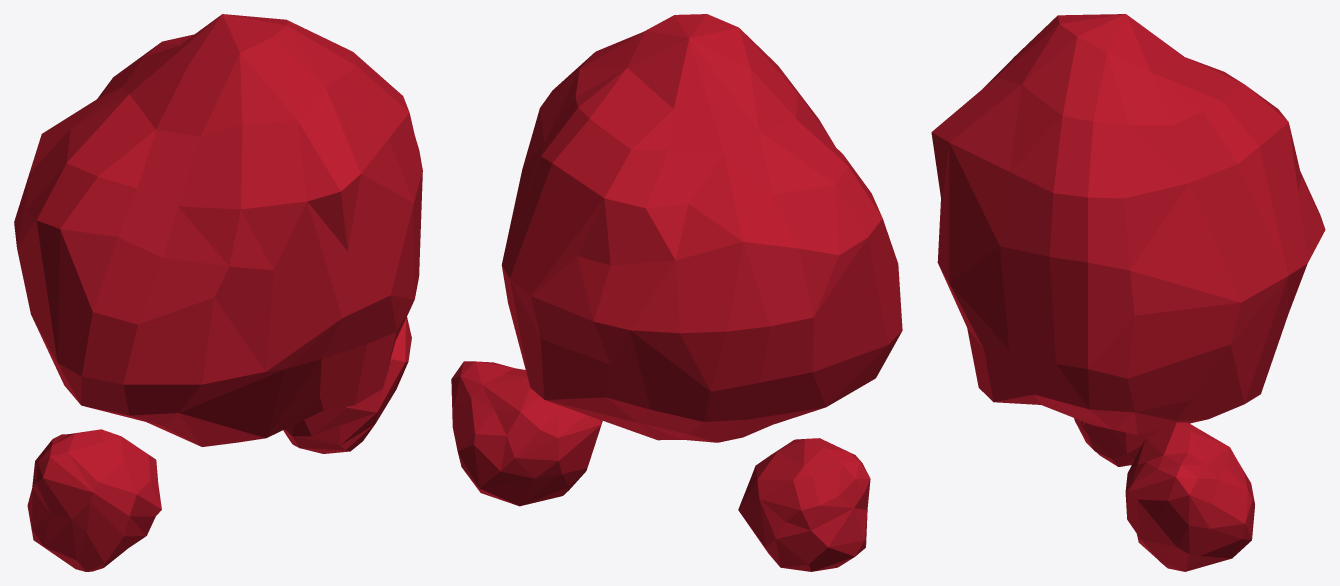
File: tree-dead-leaves-3-047.glb
3 views of the same model, side by side, from view 1: azimuth 30°, elevation 25°; view 2: azimuth 150°, elevation 25°; view 3: azimuth 270°, elevation 25° (orthographic). The views are drawn at different scales.
Visible parts, largest first — view 1: TREE 3.007_511; view 2: TREE 3.007_511; view 3: TREE 3.007_511.
Part boxes in pixels (x1=…): TREE 3.007_511: x1=14, y1=14, x2=422, y2=571; TREE 3.007_511: x1=451, y1=14, x2=902, y2=571; TREE 3.007_511: x1=931, y1=14, x2=1325, y2=571.
Bounding box in the file's own units: 1.04 × 1.29 × 0.8969.
